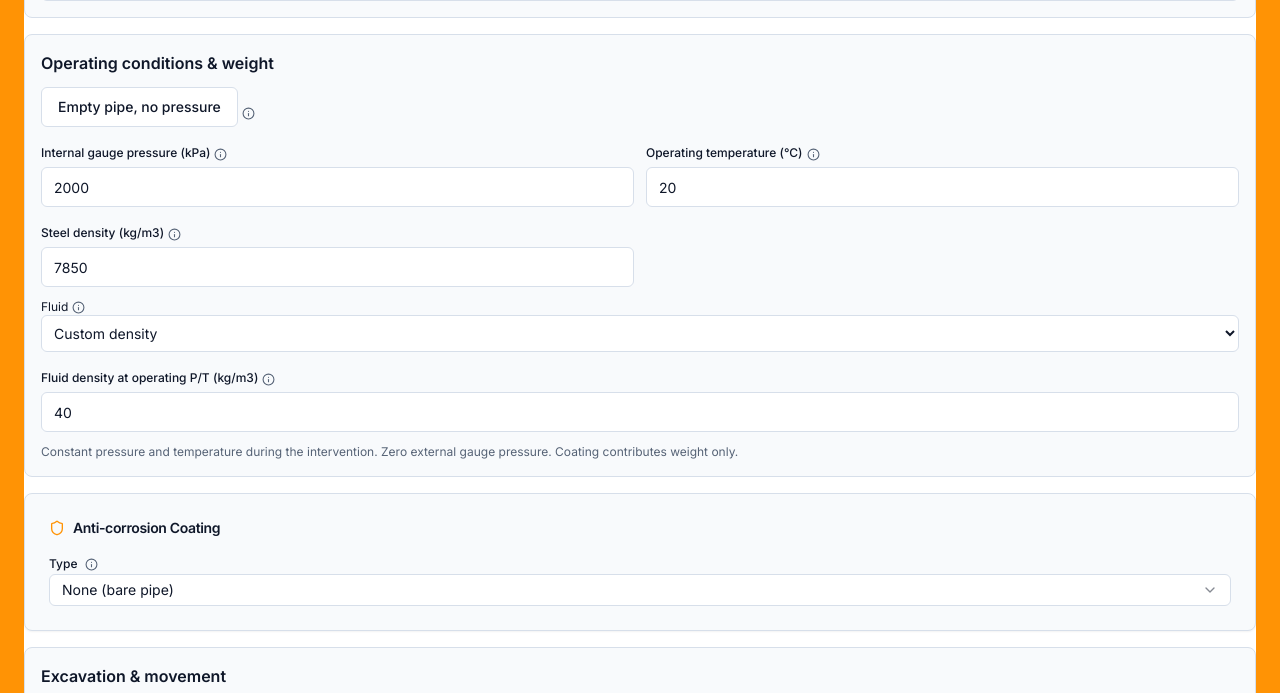
selects a gas, updates density from P/T, and restores editable custom density
(page scrolled)
Select "Air (dry)" in the dropdown labelled "Fluid" at (640, 334), box x1=41 y1=315 x2=1239 y2=352
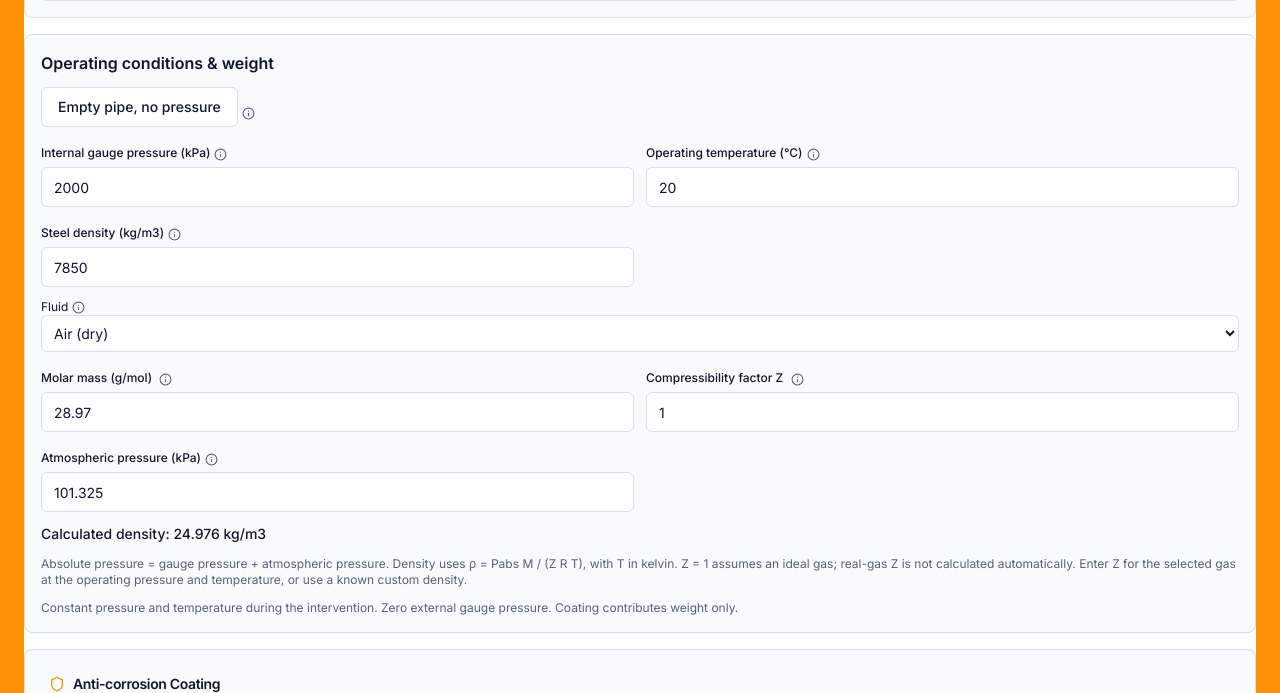
Replace the text in the number field labelled "Internal gauge pressure (kPa)" with "0" at (338, 187), box x1=41 y1=167 x2=634 y2=207
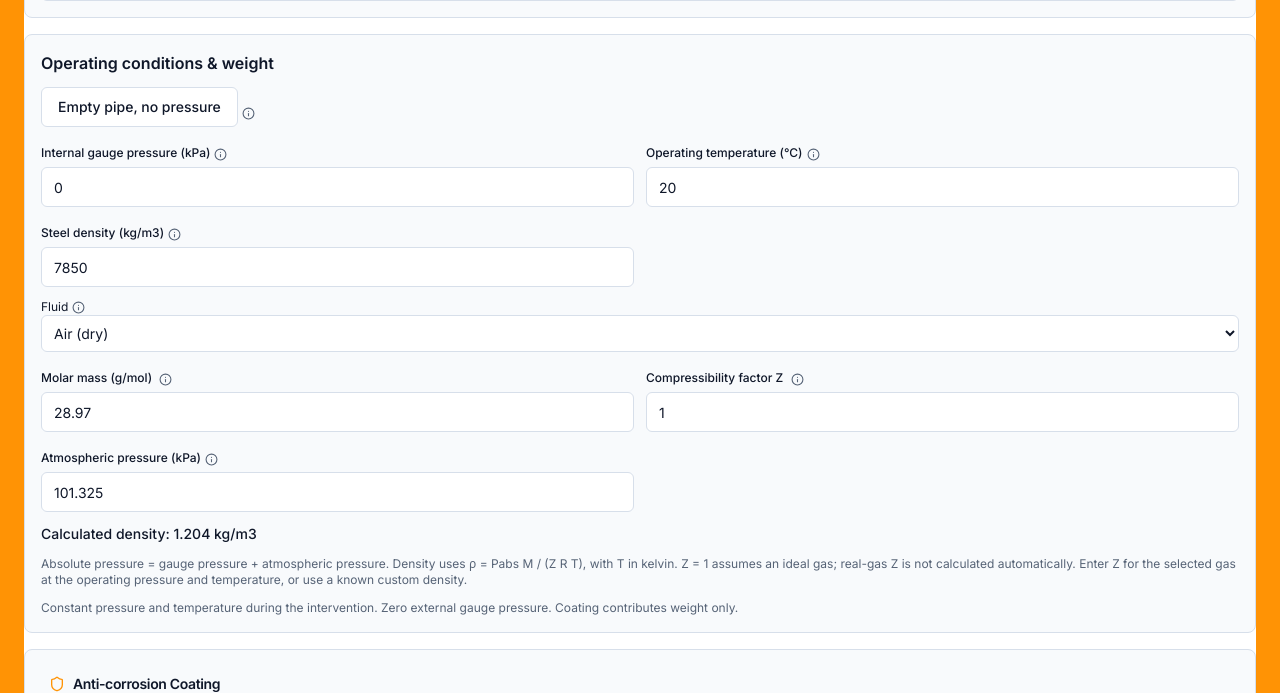
Check: the text "Calculated density: 1.204 kg/m3" is shown, box x1=41 y1=525 x2=257 y2=542
Replace the text in the number field labelled "Operating temperature (°C)" with "313.15" at (942, 187), box x1=646 y1=167 x2=1239 y2=207
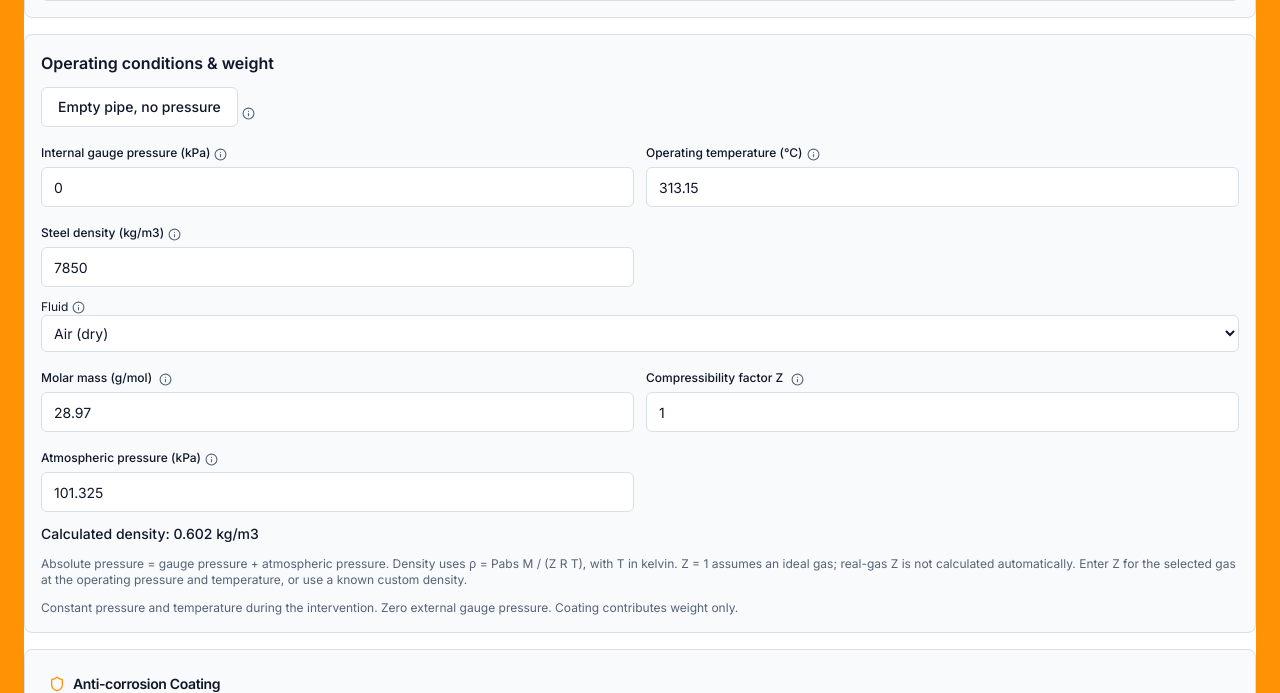
Check: the text "Calculated density: 0.602 kg/m3" is shown, box x1=41 y1=525 x2=259 y2=542
Select "Custom density" in the dropdown labelled "Fluid" at (640, 334), box x1=41 y1=315 x2=1239 y2=352
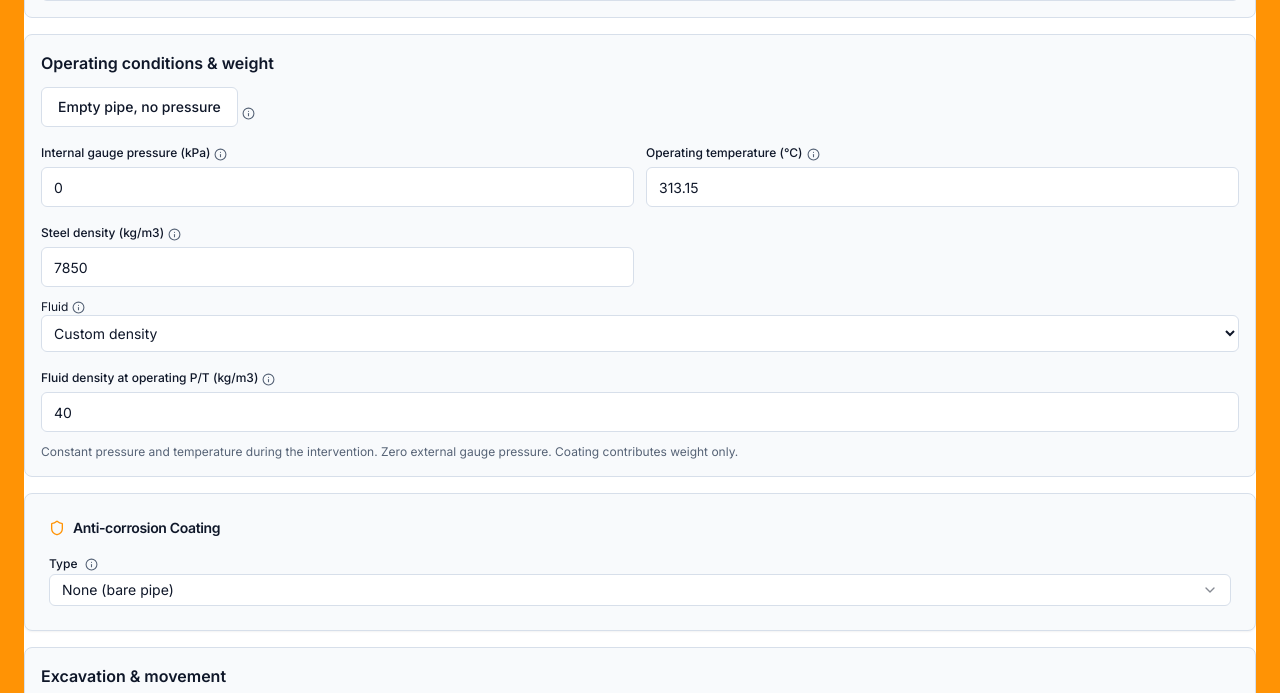
Check: the number field labelled "Fluid density at operating P/T (kg/m3)" holds "40", box x1=41 y1=392 x2=1239 y2=432
